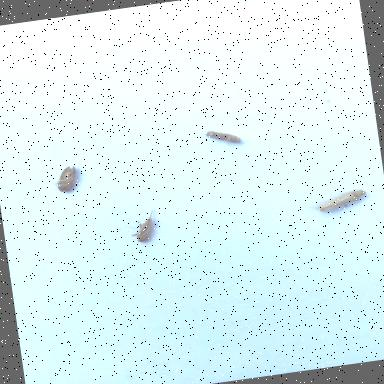pbw: (309, 185, 370, 215), (124, 207, 162, 244), (199, 124, 246, 150), (48, 162, 84, 195)
